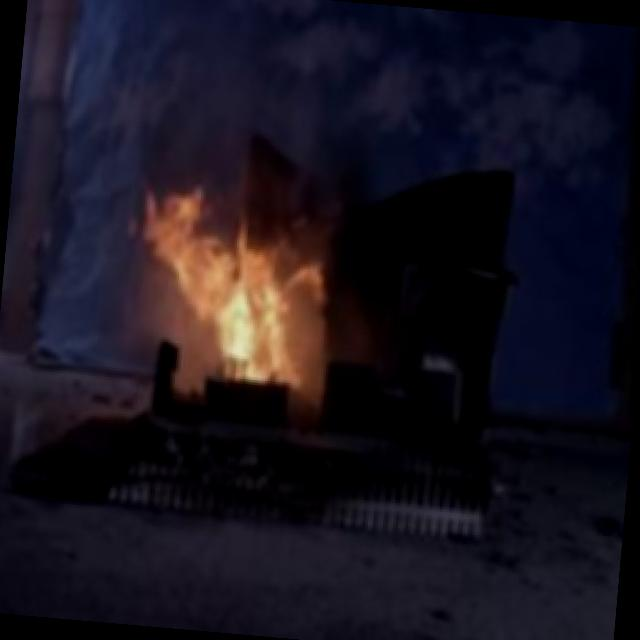fire: (117, 148, 346, 394)
